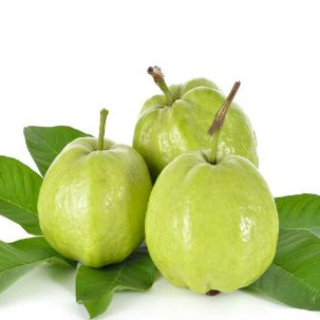oi: (144, 151, 279, 293), (38, 136, 147, 269)
